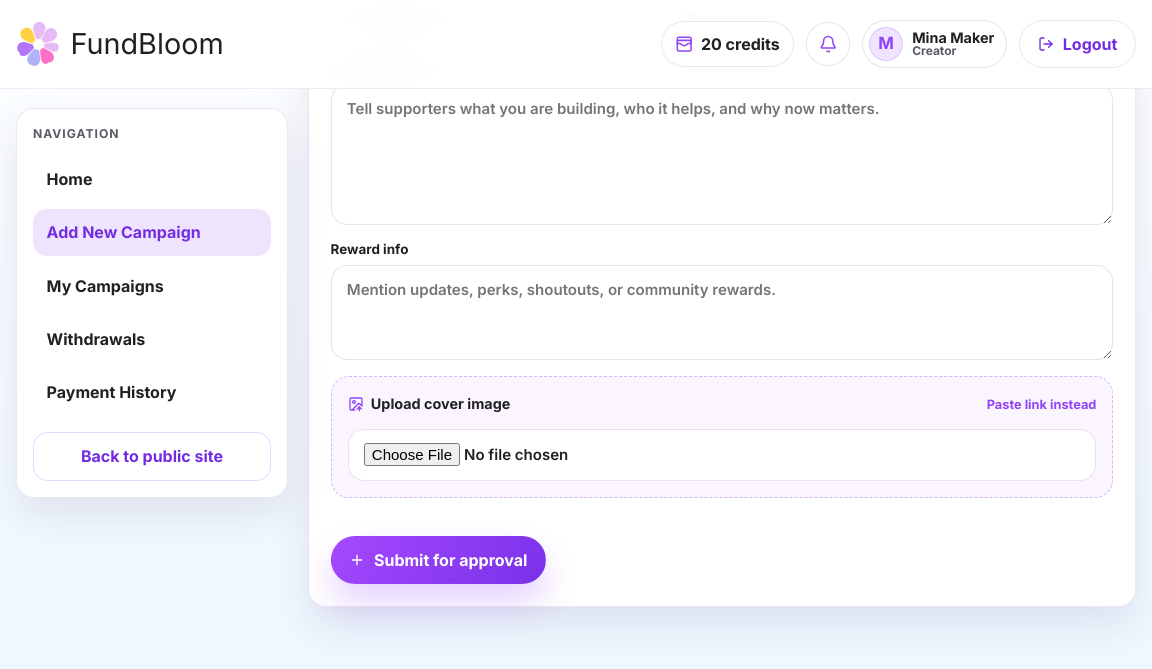
Test: creator campaign dashboard pages › validates campaign fields before submitting
The width and height of the screenshot is (1152, 669).
(page scrolled)
Click the button "Submit for approval": (438, 560) [331,536,546,584]
(page scrolled)
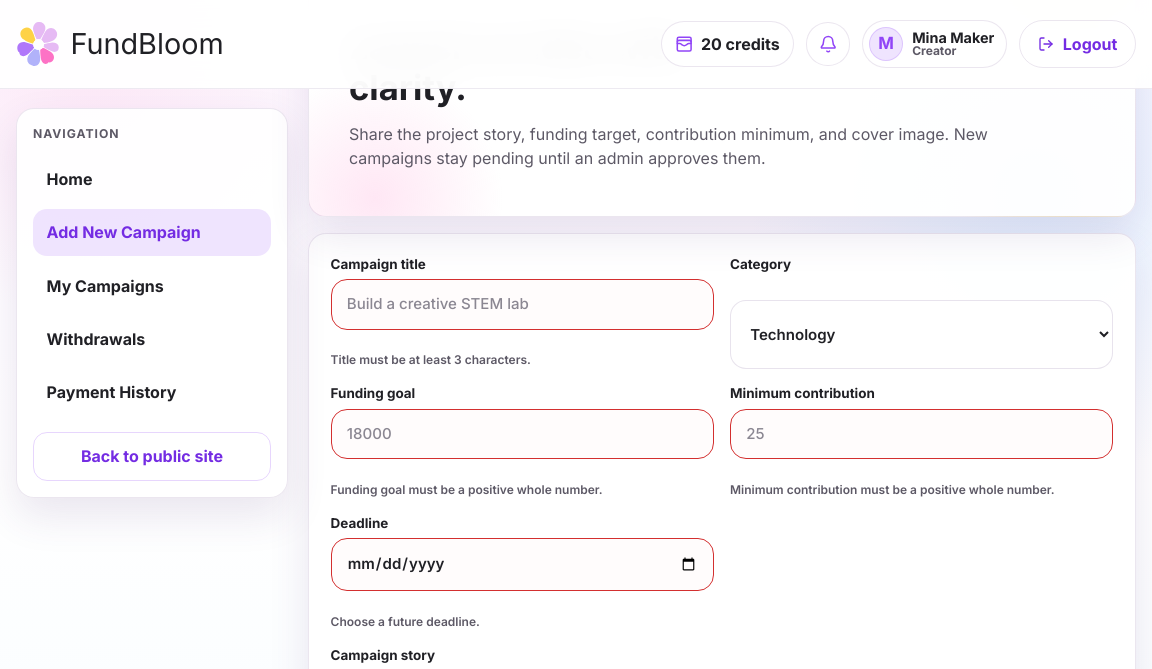
Expected: the text "Title must be at least 3 characters." is shown, [331,352,531,367]
